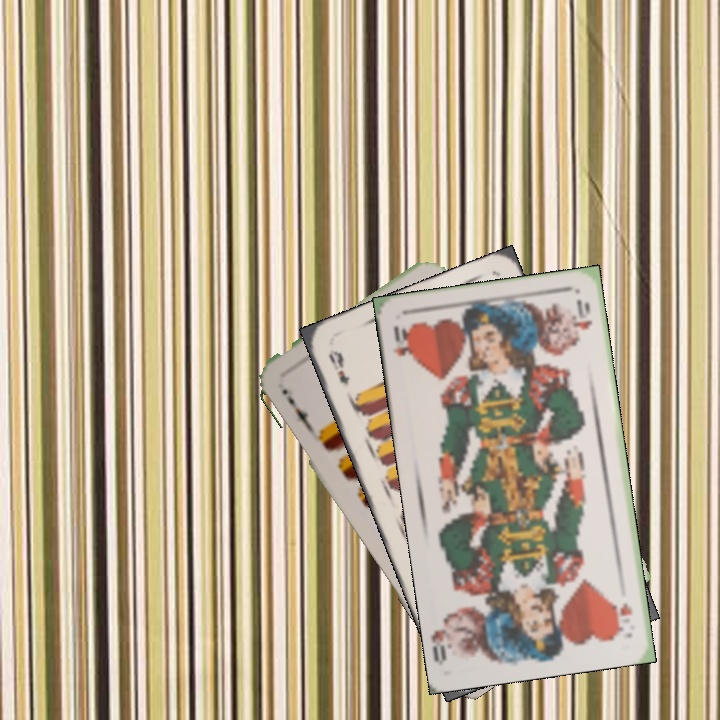E7: (278, 384, 313, 431)
E9: (324, 345, 353, 388)
HO: (388, 321, 416, 364), (612, 600, 635, 635)
